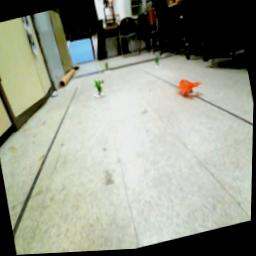herb: (93, 80, 109, 98), (154, 55, 163, 70), (105, 63, 112, 75)
wild: (178, 76, 205, 104)
